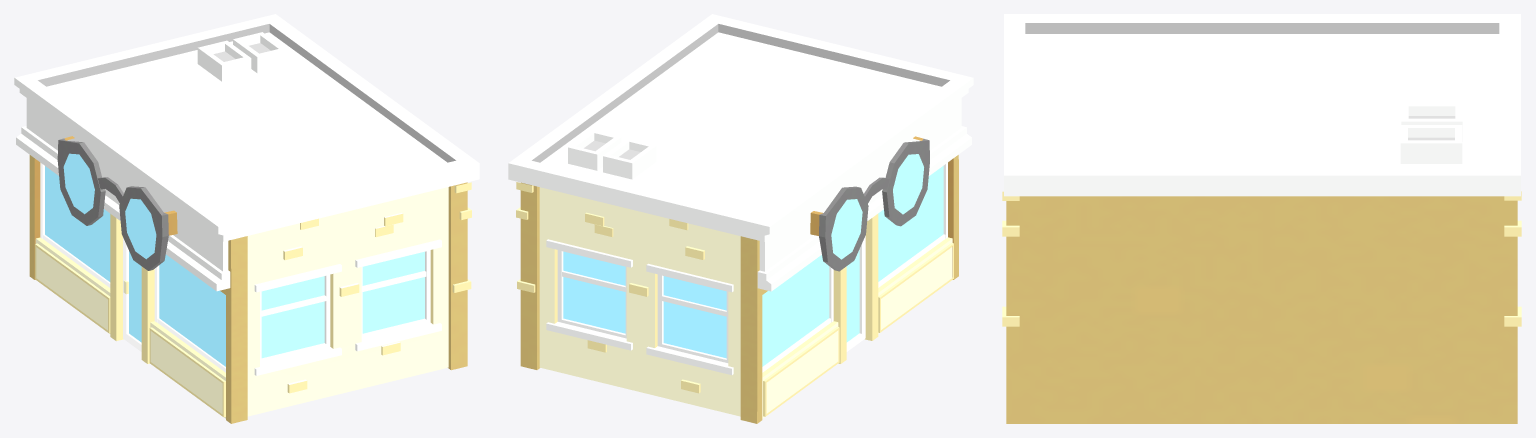
Rendered from tile_for_home_1x1.006 (9) glasses.glb.
The picture shows the model from 3 angles, left to right: view 1: azimuth 30°, elevation 25°; view 2: azimuth 150°, elevation 25°; view 3: azimuth 270°, elevation 25°; orthographic projection. The views are drawn at different scales.
Parts seen in each view (by area): view 1: services; view 2: services; view 3: services.
Part boxes in pixels (x1,y1,x2,y2): services: [14, 14, 479, 423]; services: [508, 14, 973, 423]; services: [1002, 14, 1521, 423].
Bounding box in the file's own units: 5.15 × 3.85 × 6.83.
Materials: 1 (1 with a texture image).
